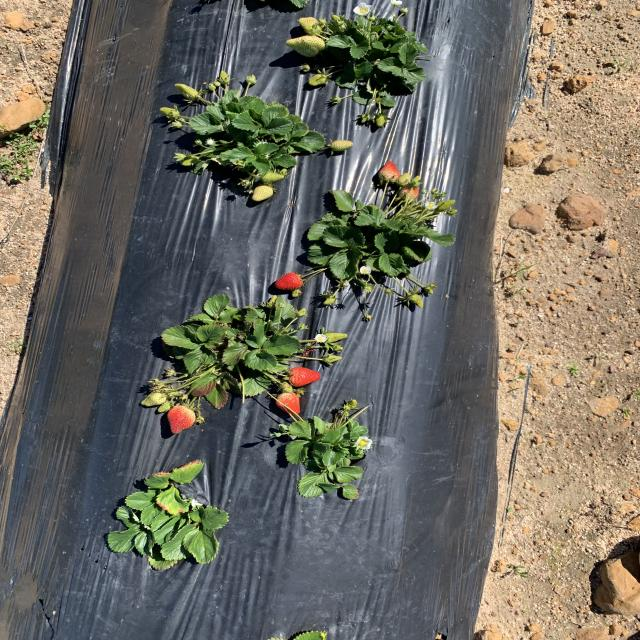unripe: (169, 405, 196, 434), (288, 366, 321, 387), (276, 392, 303, 415), (274, 272, 304, 291), (381, 160, 400, 184)
